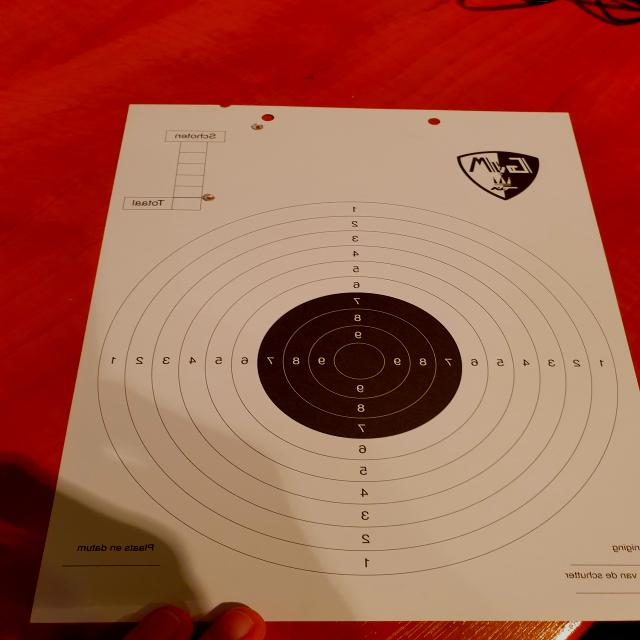Target: (94, 198, 622, 579)
black_contour: (258, 292, 460, 439)
